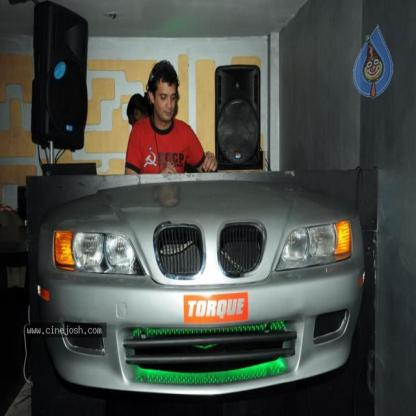face: (155, 84, 177, 121), (130, 114, 142, 127)
